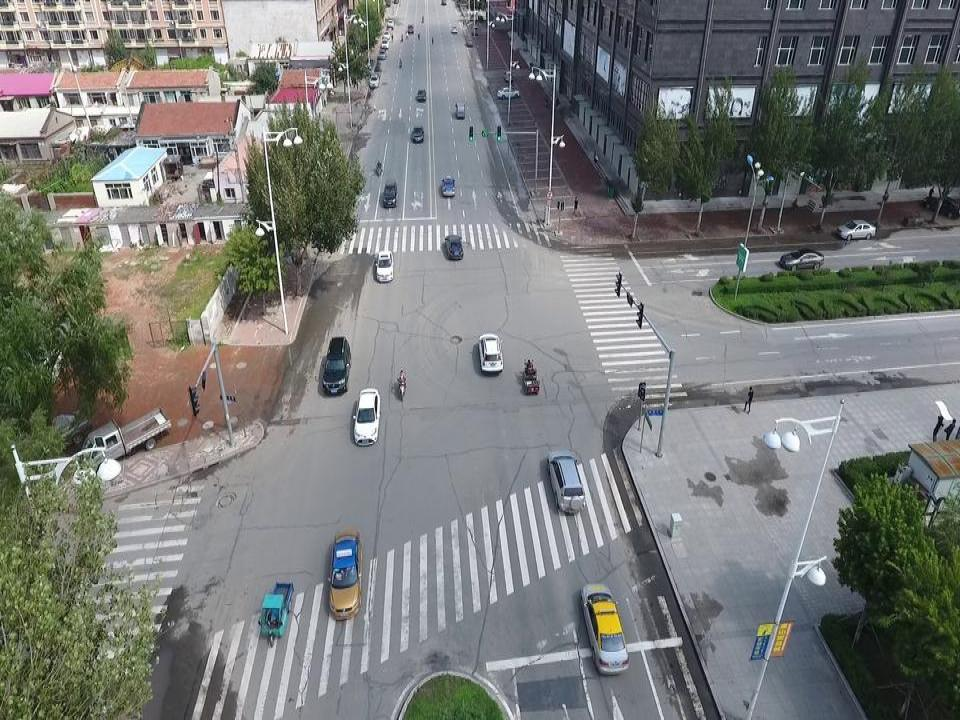car: (580, 580, 630, 675), (327, 530, 362, 622), (27, 409, 92, 455), (546, 448, 586, 516), (352, 387, 382, 448), (322, 335, 352, 396), (778, 248, 825, 272), (478, 332, 504, 375), (922, 195, 960, 220), (836, 218, 876, 241), (373, 248, 394, 283), (443, 234, 464, 262), (496, 85, 520, 99), (441, 175, 456, 197), (411, 124, 425, 144), (368, 73, 379, 88), (416, 87, 427, 101), (503, 69, 513, 84)
truck: (79, 404, 172, 476)
van: (383, 178, 398, 209), (455, 101, 465, 119)
